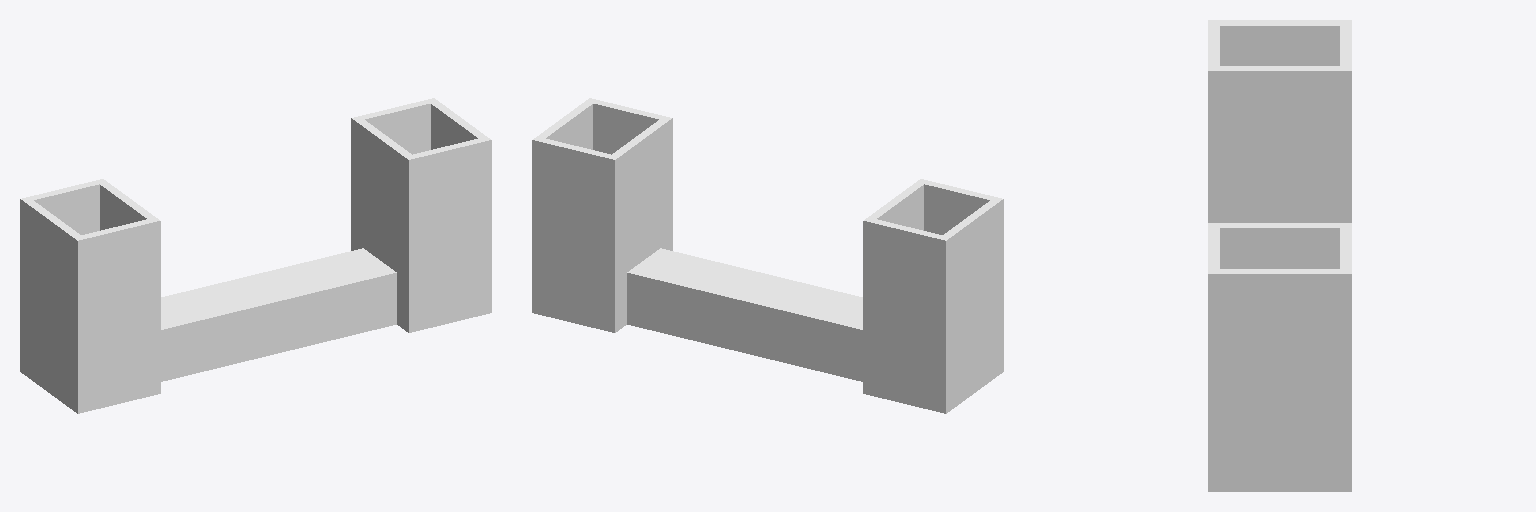
The robot description file, URDF, robot "communicating_vessels":
<?xml version="1.0"?>
<robot name="communicating_vessels">
  <link name="vessels_link">
    <!-- container_0_bottom -->
    <visual name="container_0_bottom_visual">
      <origin xyz="0.05 0.0 0.005" rpy="0 0 0"/>
      <geometry>
        <box size="0.1 0.1 0.01"/>
      </geometry>
      <material name="white">
        <color rgba="1 1 1 0.5"/>
      </material>
    </visual>
    <collision name="container_0_bottom_collision">
      <origin xyz="0.05 0.0 0.005" rpy="0 0 0"/>
      <geometry>
        <box size="0.1 0.1 0.01"/>
      </geometry>
    </collision>
    <!-- container_0_front_wall -->
    <visual name="container_0_front_wall_visual">
      <origin xyz="0.05 0.055 0.1" rpy="0 0 0"/>
      <geometry>
        <box size="0.1 0.01 0.2"/>
      </geometry>
      <material name="white">
        <color rgba="1 1 1 0.5"/>
      </material>
    </visual>
    <collision name="container_0_front_wall_collision">
      <origin xyz="0.05 0.055 0.1" rpy="0 0 0"/>
      <geometry>
        <box size="0.1 0.01 0.2"/>
      </geometry>
    </collision>
    <!-- container_0_back_wall -->
    <visual name="container_0_back_wall_visual">
      <origin xyz="0.05 -0.055 0.1" rpy="0 0 0"/>
      <geometry>
        <box size="0.1 0.01 0.2"/>
      </geometry>
      <material name="white">
        <color rgba="1 1 1 0.5"/>
      </material>
    </visual>
    <collision name="container_0_back_wall_collision">
      <origin xyz="0.05 -0.055 0.1" rpy="0 0 0"/>
      <geometry>
        <box size="0.1 0.01 0.2"/>
      </geometry>
    </collision>
    <!-- container_0_left_wall -->
    <visual name="container_0_left_wall_visual">
      <origin xyz="0.005 0.0 0.1" rpy="0 0 0"/>
      <geometry>
        <box size="0.01 0.1 0.2"/>
      </geometry>
      <material name="white">
        <color rgba="1 1 1 0.5"/>
      </material>
    </visual>
    <collision name="container_0_left_wall_collision">
      <origin xyz="0.005 0.0 0.1" rpy="0 0 0"/>
      <geometry>
        <box size="0.01 0.1 0.2"/>
      </geometry>
    </collision>
    <!-- container_0_right_wall_with_hole_top -->
    <visual name="container_0_right_wall_with_hole_top_visual">
      <origin xyz="0.09500000000000001 0.0 0.125" rpy="0 0 0"/>
      <geometry>
        <box size="0.01 0.1 0.15000000000000002"/>
      </geometry>
      <material name="white">
        <color rgba="1 1 1 0.5"/>
      </material>
    </visual>
    <collision name="container_0_right_wall_with_hole_top_collision">
      <origin xyz="0.09500000000000001 0.0 0.125" rpy="0 0 0"/>
      <geometry>
        <box size="0.01 0.1 0.15000000000000002"/>
      </geometry>
    </collision>
    <!-- container_0_right_wall_with_hole_leftband -->
    <visual name="container_0_right_wall_with_hole_leftband_visual">
      <origin xyz="0.09500000000000001 -0.037500000000000006 0.025" rpy="0 0 0"/>
      <geometry>
        <box size="0.01 0.025 0.05"/>
      </geometry>
      <material name="white">
        <color rgba="1 1 1 0.5"/>
      </material>
    </visual>
    <collision name="container_0_right_wall_with_hole_leftband_collision">
      <origin xyz="0.09500000000000001 -0.037500000000000006 0.025" rpy="0 0 0"/>
      <geometry>
        <box size="0.01 0.025 0.05"/>
      </geometry>
    </collision>
    <!-- container_0_right_wall_with_hole_rightband -->
    <visual name="container_0_right_wall_with_hole_rightband_visual">
      <origin xyz="0.09500000000000001 0.037500000000000006 0.025" rpy="0 0 0"/>
      <geometry>
        <box size="0.01 0.025 0.05"/>
      </geometry>
      <material name="white">
        <color rgba="1 1 1 0.5"/>
      </material>
    </visual>
    <collision name="container_0_right_wall_with_hole_rightband_collision">
      <origin xyz="0.09500000000000001 0.037500000000000006 0.025" rpy="0 0 0"/>
      <geometry>
        <box size="0.01 0.025 0.05"/>
      </geometry>
    </collision>
    <!-- tube_0_to_1_bottom -->
    <visual name="tube_0_to_1_bottom_visual">
      <origin xyz="0.25 0.0 0.005" rpy="0 0 0"/>
      <geometry>
        <box size="0.3 0.05 0.01"/>
      </geometry>
      <material name="white">
        <color rgba="1 1 1 0.5"/>
      </material>
    </visual>
    <collision name="tube_0_to_1_bottom_collision">
      <origin xyz="0.25 0.0 0.005" rpy="0 0 0"/>
      <geometry>
        <box size="0.3 0.05 0.01"/>
      </geometry>
    </collision>
    <!-- tube_0_to_1_front -->
    <visual name="tube_0_to_1_front_visual">
      <origin xyz="0.25 0.030000000000000002 0.030000000000000002" rpy="0 0 0"/>
      <geometry>
        <box size="0.3 0.01 0.060000000000000005"/>
      </geometry>
      <material name="white">
        <color rgba="1 1 1 0.5"/>
      </material>
    </visual>
    <collision name="tube_0_to_1_front_collision">
      <origin xyz="0.25 0.030000000000000002 0.030000000000000002" rpy="0 0 0"/>
      <geometry>
        <box size="0.3 0.01 0.060000000000000005"/>
      </geometry>
    </collision>
    <!-- tube_0_to_1_back -->
    <visual name="tube_0_to_1_back_visual">
      <origin xyz="0.25 -0.030000000000000002 0.030000000000000002" rpy="0 0 0"/>
      <geometry>
        <box size="0.3 0.01 0.060000000000000005"/>
      </geometry>
      <material name="white">
        <color rgba="1 1 1 0.5"/>
      </material>
    </visual>
    <collision name="tube_0_to_1_back_collision">
      <origin xyz="0.25 -0.030000000000000002 0.030000000000000002" rpy="0 0 0"/>
      <geometry>
        <box size="0.3 0.01 0.060000000000000005"/>
      </geometry>
    </collision>
    <!-- tube_0_to_1_top -->
    <visual name="tube_0_to_1_top_visual">
      <origin xyz="0.25 0.0 0.055" rpy="0 0 0"/>
      <geometry>
        <box size="0.3 0.05 0.01"/>
      </geometry>
      <material name="white">
        <color rgba="1 1 1 0.5"/>
      </material>
    </visual>
    <collision name="tube_0_to_1_top_collision">
      <origin xyz="0.25 0.0 0.055" rpy="0 0 0"/>
      <geometry>
        <box size="0.3 0.05 0.01"/>
      </geometry>
    </collision>
    <!-- container_1_bottom -->
    <visual name="container_1_bottom_visual">
      <origin xyz="0.45 0.0 0.005" rpy="0 0 0"/>
      <geometry>
        <box size="0.1 0.1 0.01"/>
      </geometry>
      <material name="white">
        <color rgba="1 1 1 0.5"/>
      </material>
    </visual>
    <collision name="container_1_bottom_collision">
      <origin xyz="0.45 0.0 0.005" rpy="0 0 0"/>
      <geometry>
        <box size="0.1 0.1 0.01"/>
      </geometry>
    </collision>
    <!-- container_1_front_wall -->
    <visual name="container_1_front_wall_visual">
      <origin xyz="0.45 0.055 0.1" rpy="0 0 0"/>
      <geometry>
        <box size="0.1 0.01 0.2"/>
      </geometry>
      <material name="white">
        <color rgba="1 1 1 0.5"/>
      </material>
    </visual>
    <collision name="container_1_front_wall_collision">
      <origin xyz="0.45 0.055 0.1" rpy="0 0 0"/>
      <geometry>
        <box size="0.1 0.01 0.2"/>
      </geometry>
    </collision>
    <!-- container_1_back_wall -->
    <visual name="container_1_back_wall_visual">
      <origin xyz="0.45 -0.055 0.1" rpy="0 0 0"/>
      <geometry>
        <box size="0.1 0.01 0.2"/>
      </geometry>
      <material name="white">
        <color rgba="1 1 1 0.5"/>
      </material>
    </visual>
    <collision name="container_1_back_wall_collision">
      <origin xyz="0.45 -0.055 0.1" rpy="0 0 0"/>
      <geometry>
        <box size="0.1 0.01 0.2"/>
      </geometry>
    </collision>
    <!-- container_1_left_wall_with_hole_top -->
    <visual name="container_1_left_wall_with_hole_top_visual">
      <origin xyz="0.405 0.0 0.125" rpy="0 0 0"/>
      <geometry>
        <box size="0.01 0.1 0.15000000000000002"/>
      </geometry>
      <material name="white">
        <color rgba="1 1 1 0.5"/>
      </material>
    </visual>
    <collision name="container_1_left_wall_with_hole_top_collision">
      <origin xyz="0.405 0.0 0.125" rpy="0 0 0"/>
      <geometry>
        <box size="0.01 0.1 0.15000000000000002"/>
      </geometry>
    </collision>
    <!-- container_1_left_wall_with_hole_leftband -->
    <visual name="container_1_left_wall_with_hole_leftband_visual">
      <origin xyz="0.405 -0.037500000000000006 0.025" rpy="0 0 0"/>
      <geometry>
        <box size="0.01 0.025 0.05"/>
      </geometry>
      <material name="white">
        <color rgba="1 1 1 0.5"/>
      </material>
    </visual>
    <collision name="container_1_left_wall_with_hole_leftband_collision">
      <origin xyz="0.405 -0.037500000000000006 0.025" rpy="0 0 0"/>
      <geometry>
        <box size="0.01 0.025 0.05"/>
      </geometry>
    </collision>
    <!-- container_1_left_wall_with_hole_rightband -->
    <visual name="container_1_left_wall_with_hole_rightband_visual">
      <origin xyz="0.405 0.037500000000000006 0.025" rpy="0 0 0"/>
      <geometry>
        <box size="0.01 0.025 0.05"/>
      </geometry>
      <material name="white">
        <color rgba="1 1 1 0.5"/>
      </material>
    </visual>
    <collision name="container_1_left_wall_with_hole_rightband_collision">
      <origin xyz="0.405 0.037500000000000006 0.025" rpy="0 0 0"/>
      <geometry>
        <box size="0.01 0.025 0.05"/>
      </geometry>
    </collision>
    <!-- container_1_right_wall -->
    <visual name="container_1_right_wall_visual">
      <origin xyz="0.495 0.0 0.1" rpy="0 0 0"/>
      <geometry>
        <box size="0.01 0.1 0.2"/>
      </geometry>
      <material name="white">
        <color rgba="1 1 1 0.5"/>
      </material>
    </visual>
    <collision name="container_1_right_wall_collision">
      <origin xyz="0.495 0.0 0.1" rpy="0 0 0"/>
      <geometry>
        <box size="0.01 0.1 0.2"/>
      </geometry>
    </collision>
  </link>
</robot>

--- Render facts (derived) ---
3 views of the same robot in one strip: view 1: azimuth 30°, elevation 25°; view 2: azimuth 150°, elevation 25°; view 3: azimuth 270°, elevation 25° (orthographic).
Model communicating_vessels with 1 links and 0 joints (none), rooted at vessels_link, posed all joints at 0.
Links seen in each view (by area): view 1: vessels_link; view 2: vessels_link; view 3: vessels_link.
Boxes of the visible links, left/top/right/bottom form: vessels_link: left=20, top=98, right=491, bottom=413; vessels_link: left=532, top=98, right=1003, bottom=413; vessels_link: left=1208, top=20, right=1351, bottom=491.
Size in the robot's own frame: 0.5 by 0.12 by 0.2 metres.
Geometry: primitives only (box / cylinder / sphere), no mesh files.